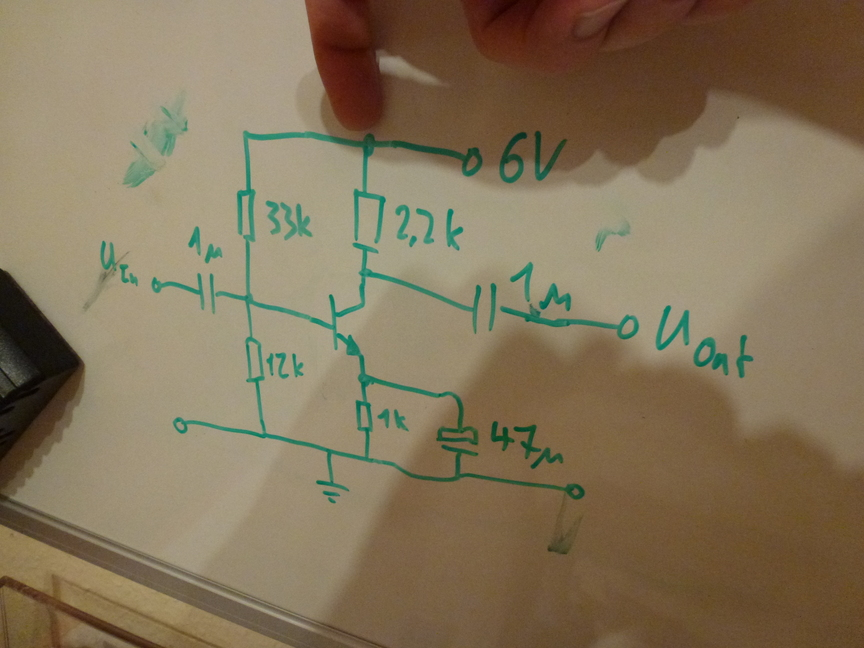capacitor.polarized: (433, 420, 484, 462)
capacitor.unpolarized: (463, 278, 507, 336), (189, 268, 228, 318)
gnd: (313, 472, 354, 511)
junction: (358, 131, 382, 159), (355, 368, 375, 389), (354, 264, 374, 282), (239, 290, 256, 309), (450, 388, 467, 405), (358, 451, 377, 466), (239, 126, 254, 145), (322, 443, 337, 459), (258, 429, 272, 446), (448, 471, 464, 484)
resistor: (345, 181, 386, 260), (234, 184, 260, 250), (240, 330, 267, 390), (350, 395, 375, 439)
terminal: (454, 143, 488, 180), (609, 311, 644, 343), (560, 479, 588, 504), (170, 412, 194, 439), (147, 274, 166, 298)
text: (652, 299, 757, 385), (497, 127, 570, 192), (487, 418, 569, 473), (390, 201, 468, 257), (507, 259, 576, 312), (259, 196, 318, 244), (97, 237, 142, 289), (181, 222, 227, 266), (265, 348, 308, 382), (375, 405, 414, 436)
transistor: (319, 289, 380, 363)
